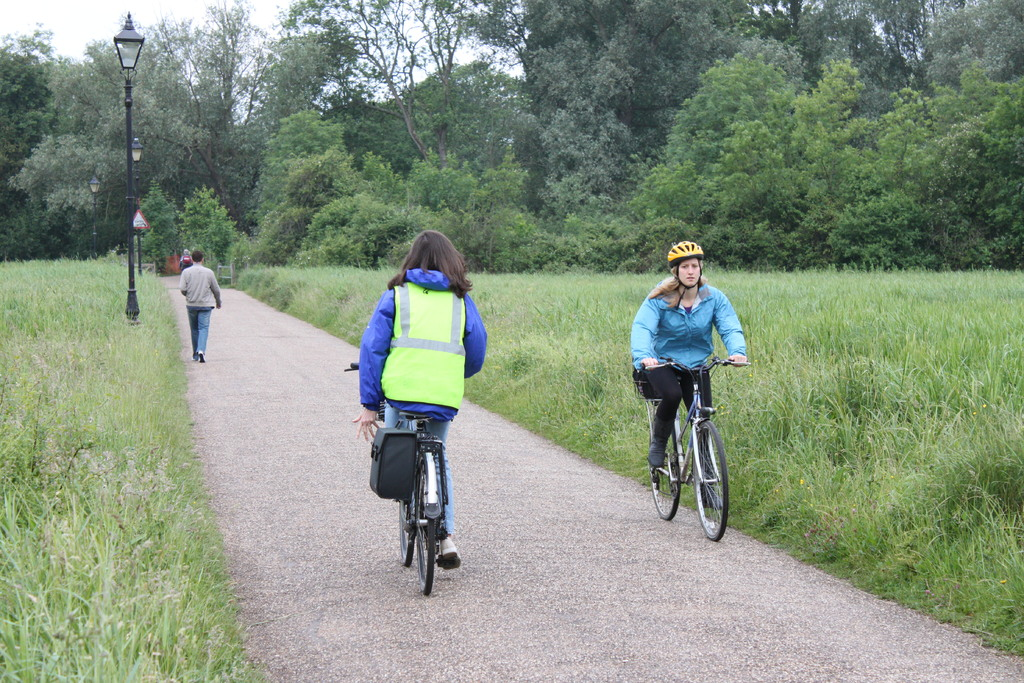Bike: (336, 352, 484, 588), (623, 366, 764, 545)
